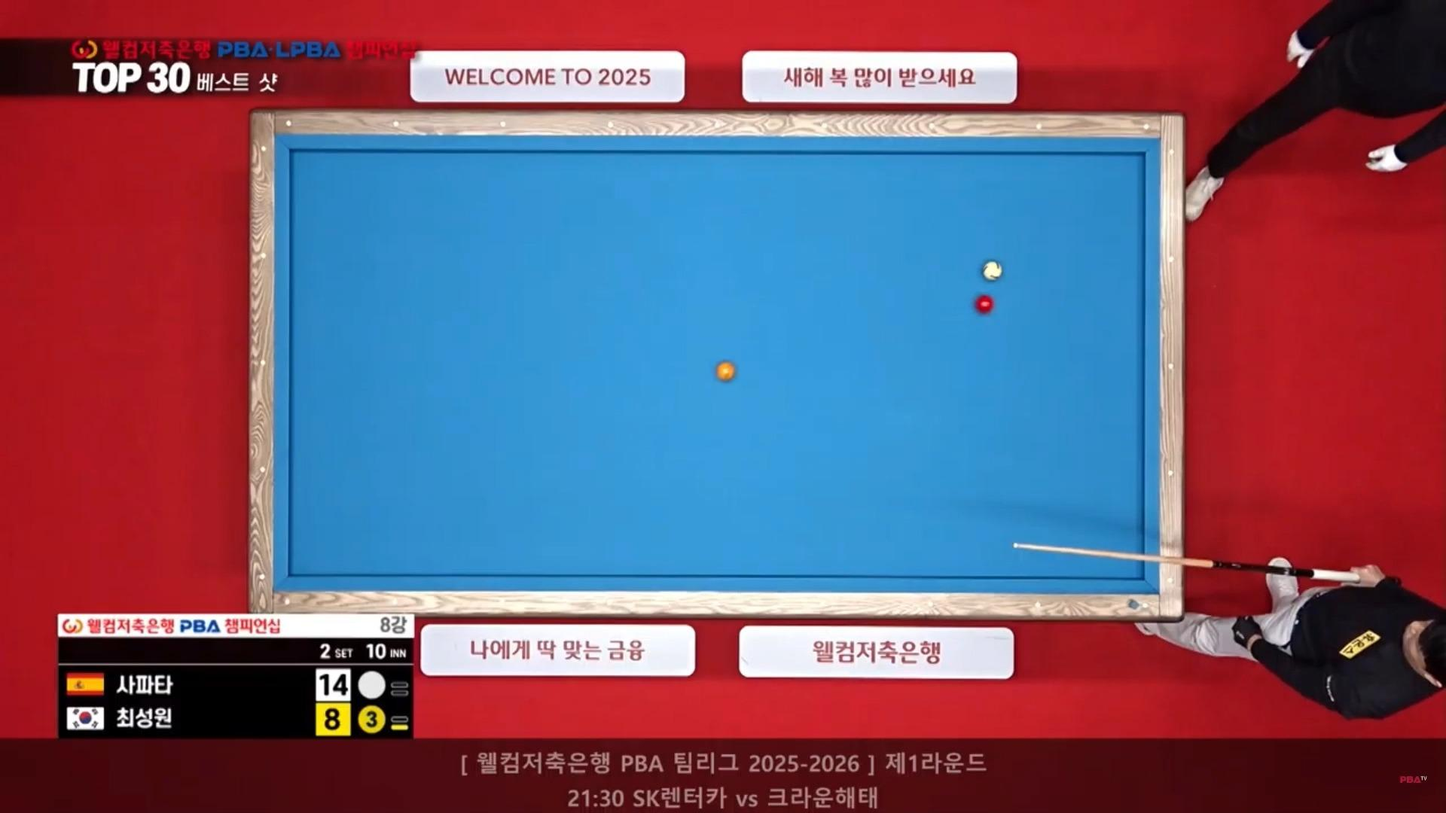-billiard-ball: (715, 359, 735, 382)
Red: (972, 298, 995, 316)
White: (980, 261, 1004, 281)
